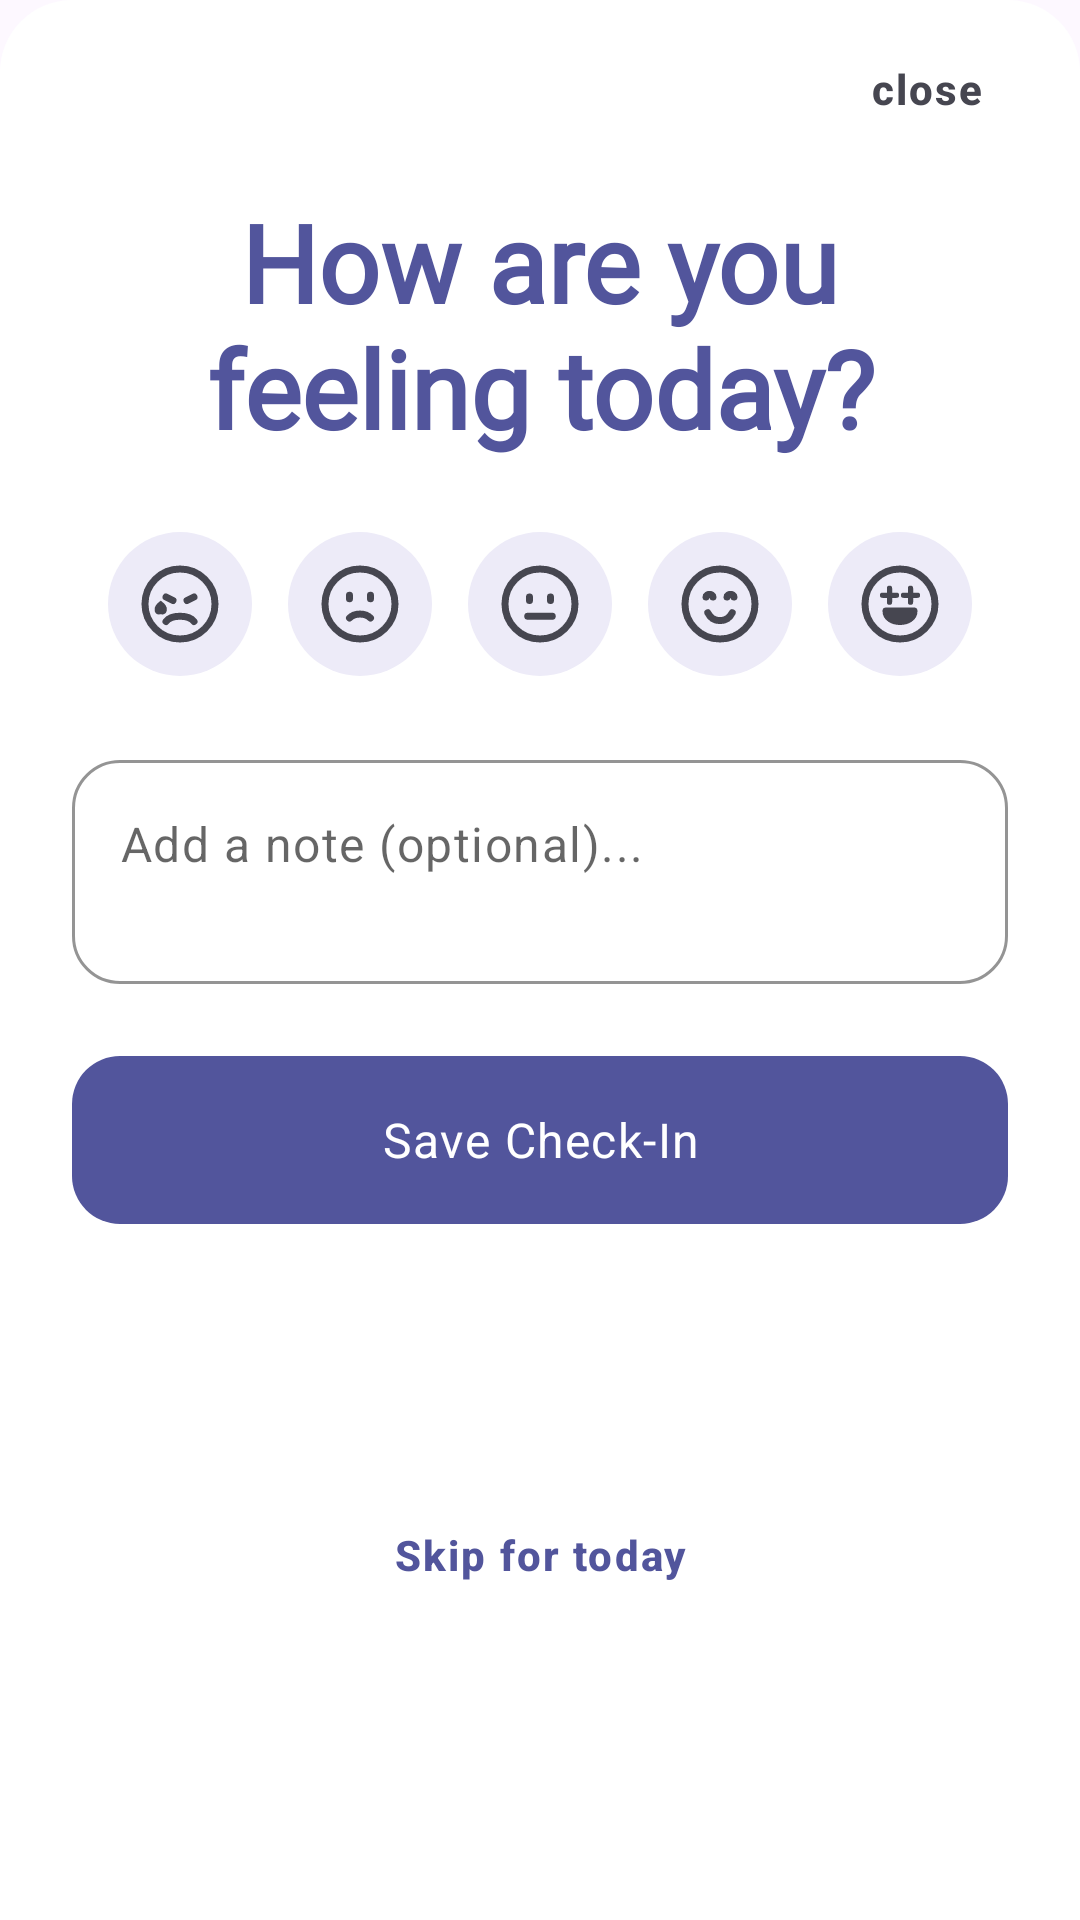

Named icons in this screenshot (1080w x 1920h) and their bounding boxes, (x1, y1, x2, y2):
Difficult: (108, 532, 252, 676)
Good: (648, 532, 792, 676)
Low: (288, 532, 432, 676)
Okay: (468, 532, 612, 676)
Radiant: (828, 532, 972, 676)
